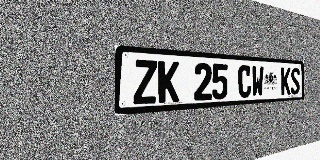2: (194, 62, 212, 101)
5: (212, 63, 228, 100)
C: (238, 65, 251, 98)
K: (158, 61, 179, 103), (281, 67, 290, 95)
S: (291, 68, 300, 95)
W: (252, 66, 263, 97)
Z: (133, 59, 157, 105)
